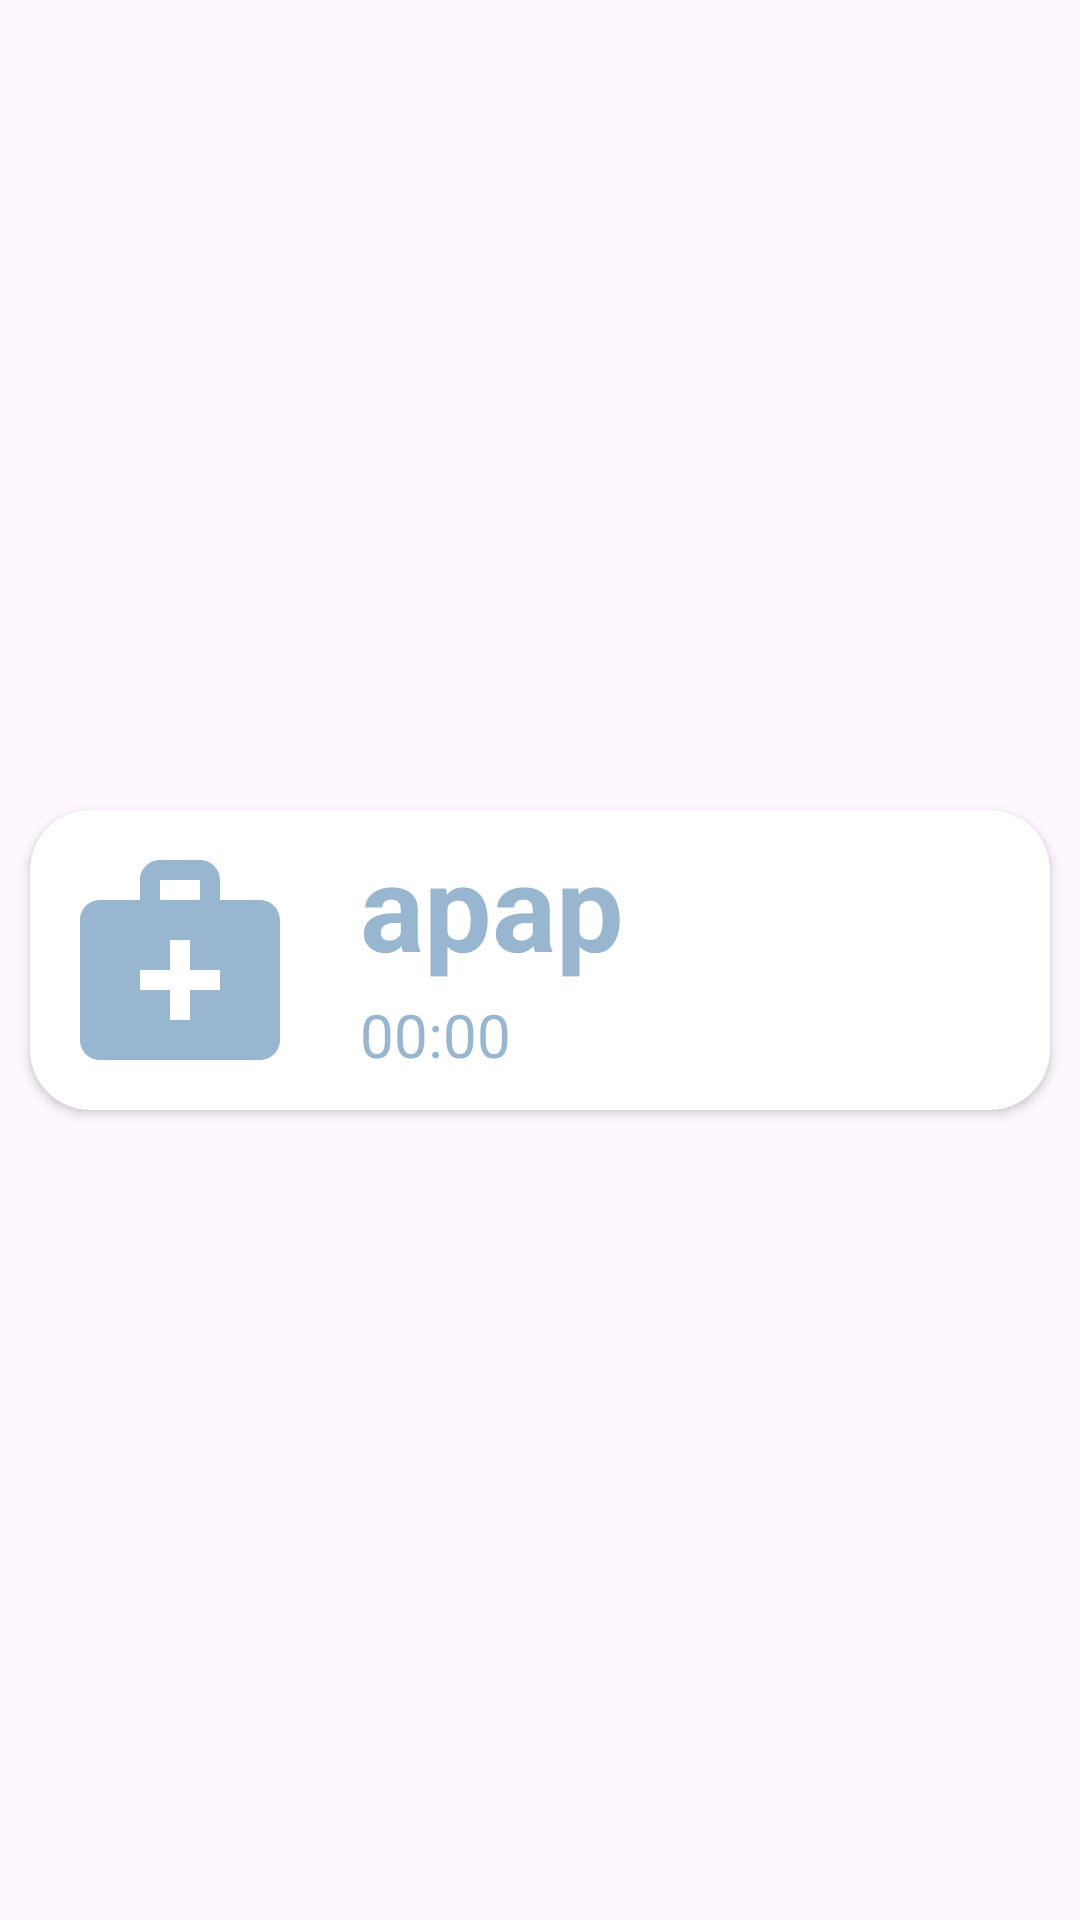

Named icons in this screenshot (1080 × 1920) and their bounding boxes, bbox(x1, y1, x2, y2):
medical services: bbox(42, 832, 280, 1060)
